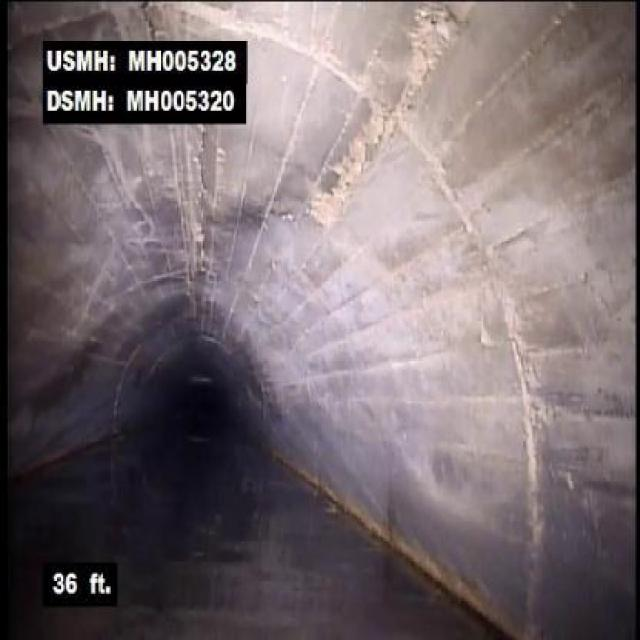Crack: (190, 125, 212, 229), (138, 1, 168, 38)
